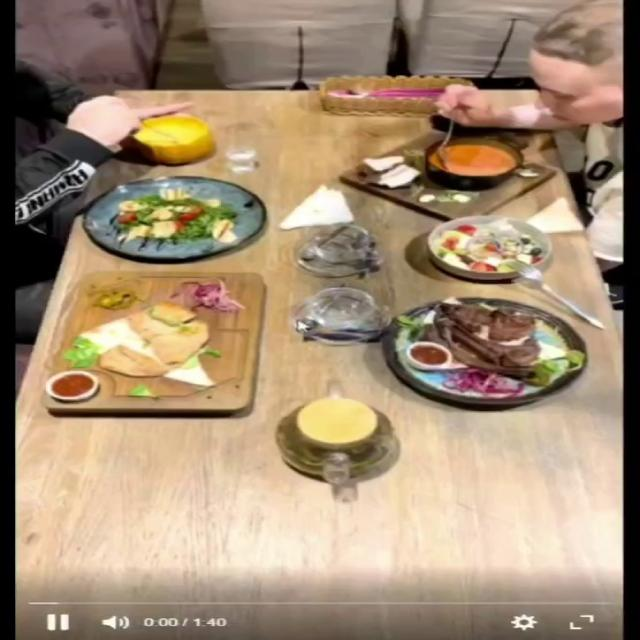alcohol: (220, 136, 266, 174)
meat: (379, 296, 589, 406)
salat: (79, 176, 265, 261), (427, 213, 555, 280)
soup: (335, 130, 556, 222), (128, 114, 214, 164)
tea: (296, 396, 376, 446)
